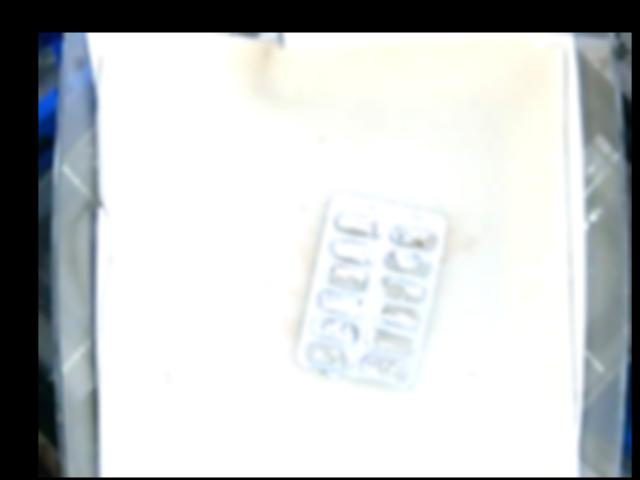Medicine: (295, 192, 451, 386)
